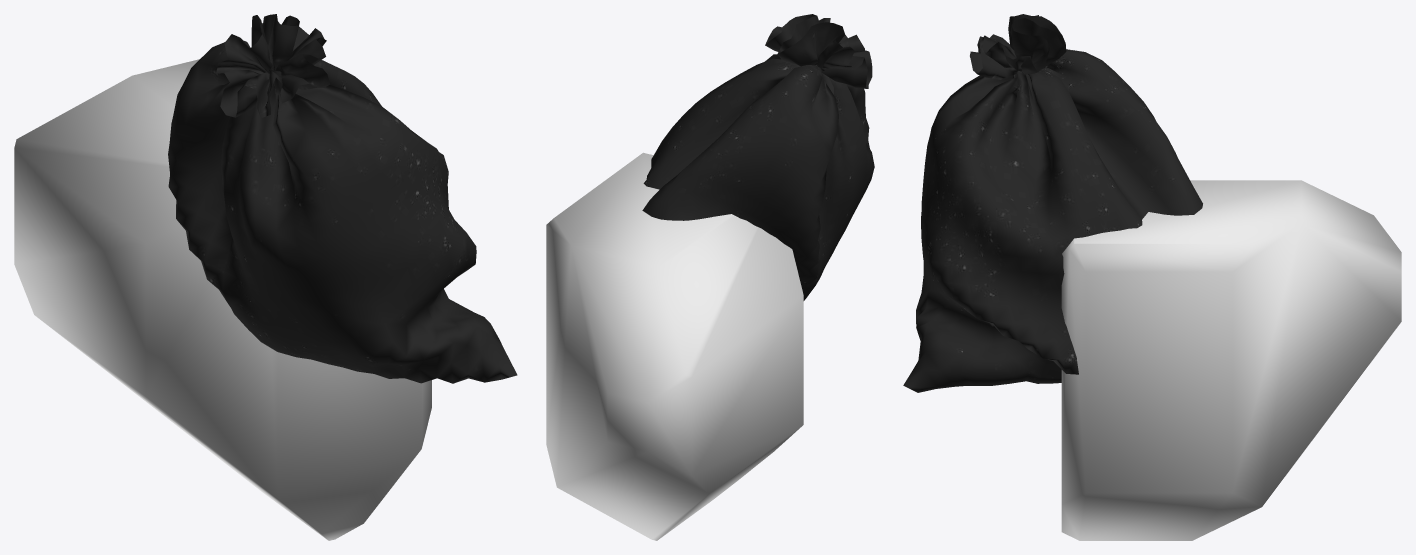
File: SM_TrashBag_01.fbx
The picture shows the model from 3 angles, left to right: view 1: azimuth 30°, elevation 25°; view 2: azimuth 150°, elevation 25°; view 3: azimuth 270°, elevation 25°; orthographic projection. The views are drawn at different scales.
Parts seen in each view (by area): view 1: SM_TrashBag_01_ConvexHulls, SM_TrashBag_01; view 2: SM_TrashBag_01_ConvexHulls, SM_TrashBag_01; view 3: SM_TrashBag_01_ConvexHulls, SM_TrashBag_01.
Part boxes in pixels (<box>): SM_TrashBag_01_ConvexHulls: <box>14,59,431,540</box>; SM_TrashBag_01: <box>168,14,517,383</box>; SM_TrashBag_01_ConvexHulls: <box>546,152,803,540</box>; SM_TrashBag_01: <box>642,14,874,300</box>; SM_TrashBag_01_ConvexHulls: <box>1061,180,1401,540</box>; SM_TrashBag_01: <box>903,14,1202,392</box>.
Size of the model in its own units: 0.5645 by 1.22 by 1.13.
